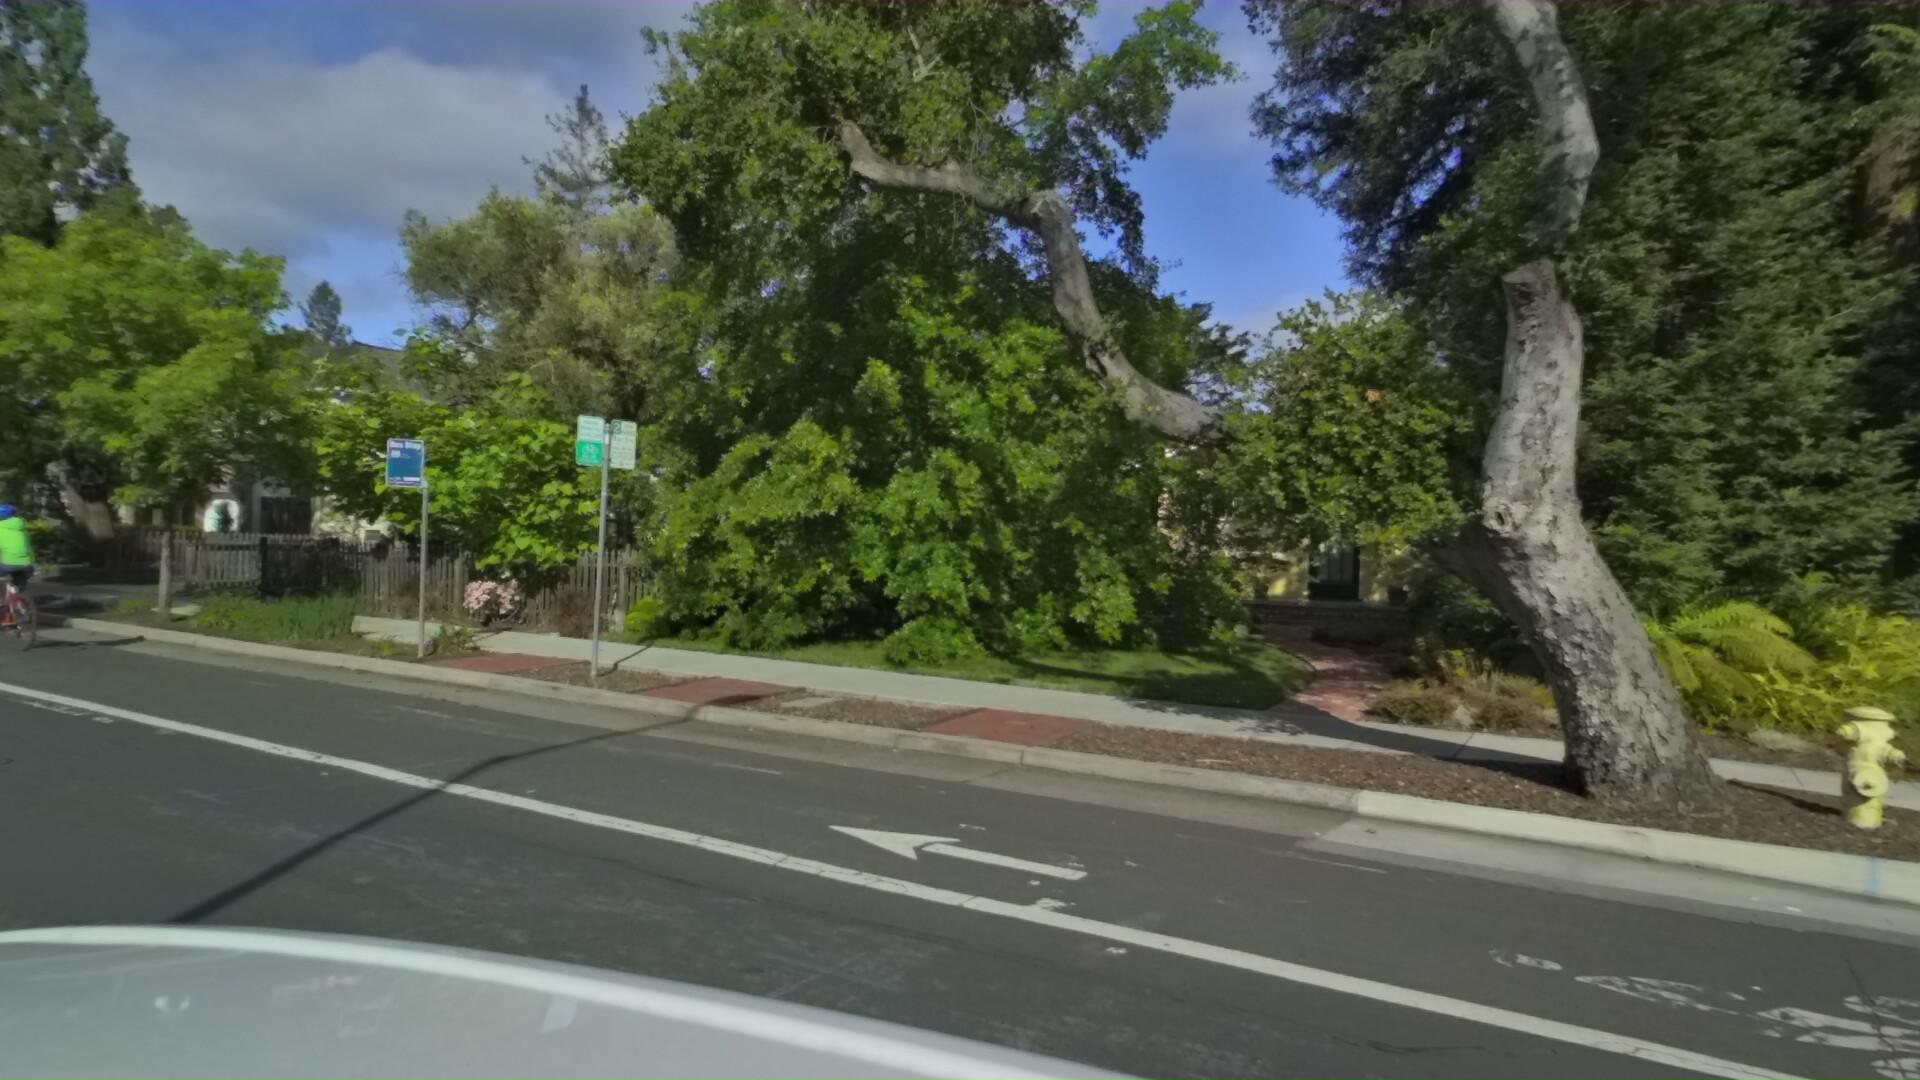bicycle: (0, 501, 69, 657)
car: (0, 508, 94, 564), (1793, 568, 1894, 618), (1768, 567, 1857, 612), (1724, 556, 1789, 596), (1876, 567, 1920, 596)
truck: (1702, 527, 1789, 592)
